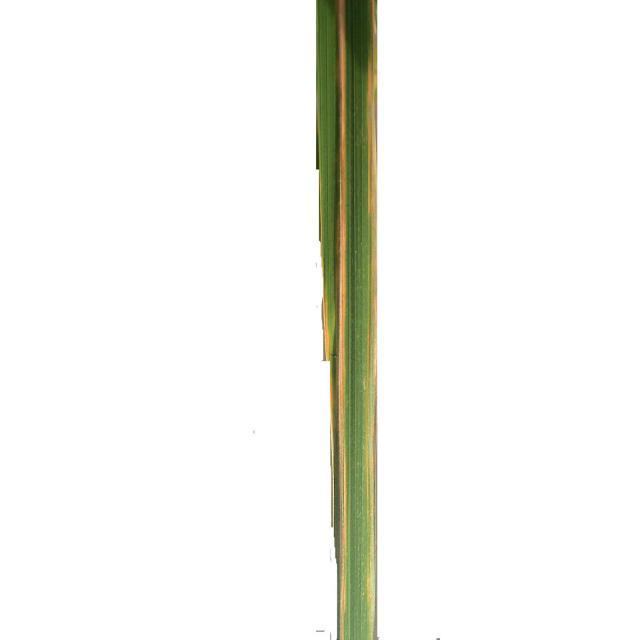leaf blight: (307, 1, 397, 640)
